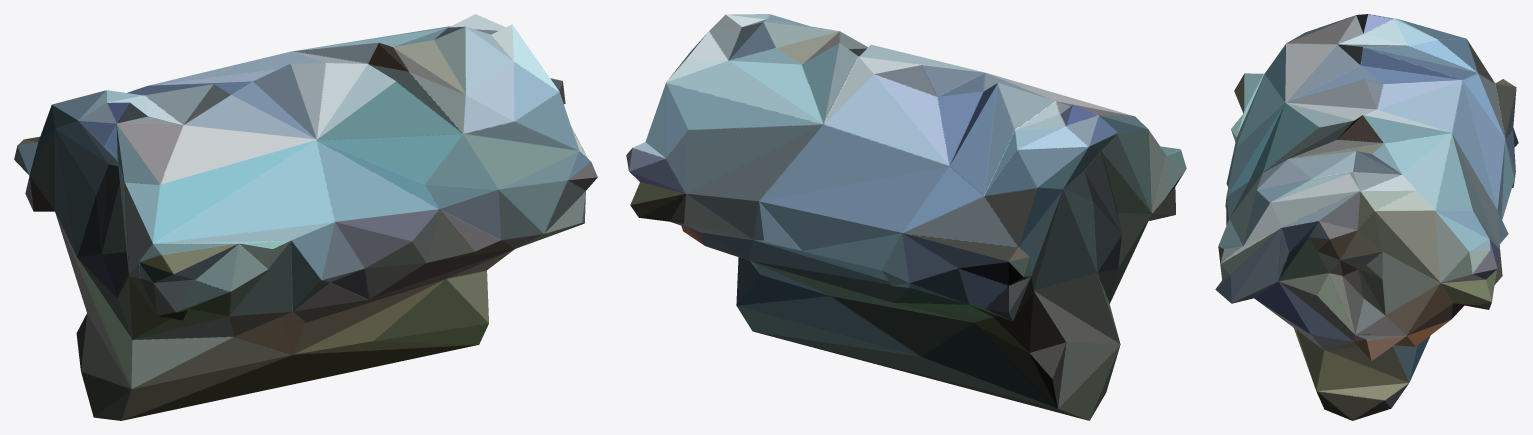
The model's file is engine.fbx.
3 views of the same model, side by side, from view 1: azimuth 30°, elevation 25°; view 2: azimuth 150°, elevation 25°; view 3: azimuth 270°, elevation 25° (orthographic). The views are drawn at different scales.
Visible parts, largest first — view 1: Mesh_0; view 2: Mesh_0; view 3: Mesh_0.
Boxes of the visible parts, x1,y1,x2,y2 form: Mesh_0: [14, 14, 597, 420]; Mesh_0: [626, 14, 1186, 420]; Mesh_0: [1215, 14, 1518, 420].
Size of the model in its own units: 119 by 76.71 by 77.37.
Materials: 1 (1 with a texture image).
